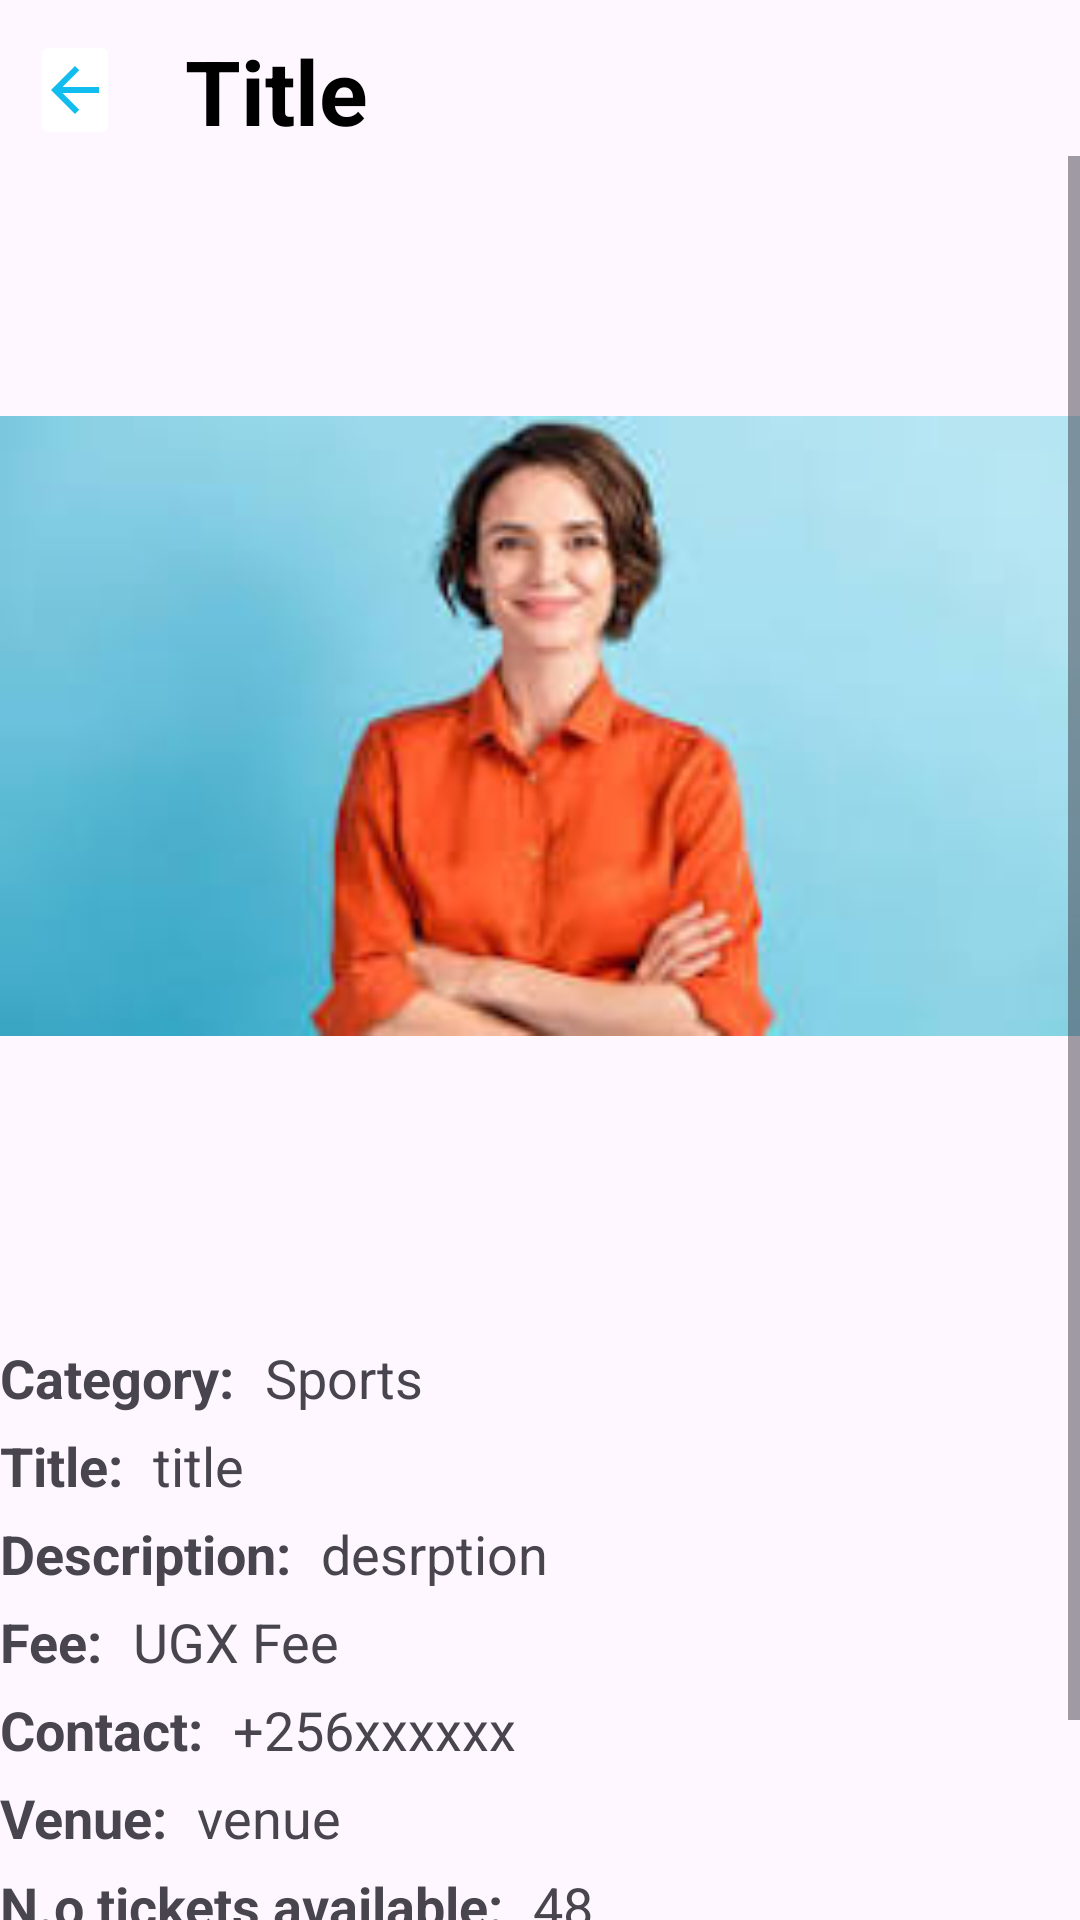

Point at icon controls on the screen. Image size 1080 × 1920, points as (x,y).
arrow back: (75,90)
